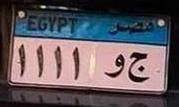1: (70, 46, 82, 81), (17, 41, 28, 77), (53, 44, 63, 81), (35, 43, 45, 78)
jeem: (127, 51, 151, 85)
waw: (102, 52, 125, 81)
